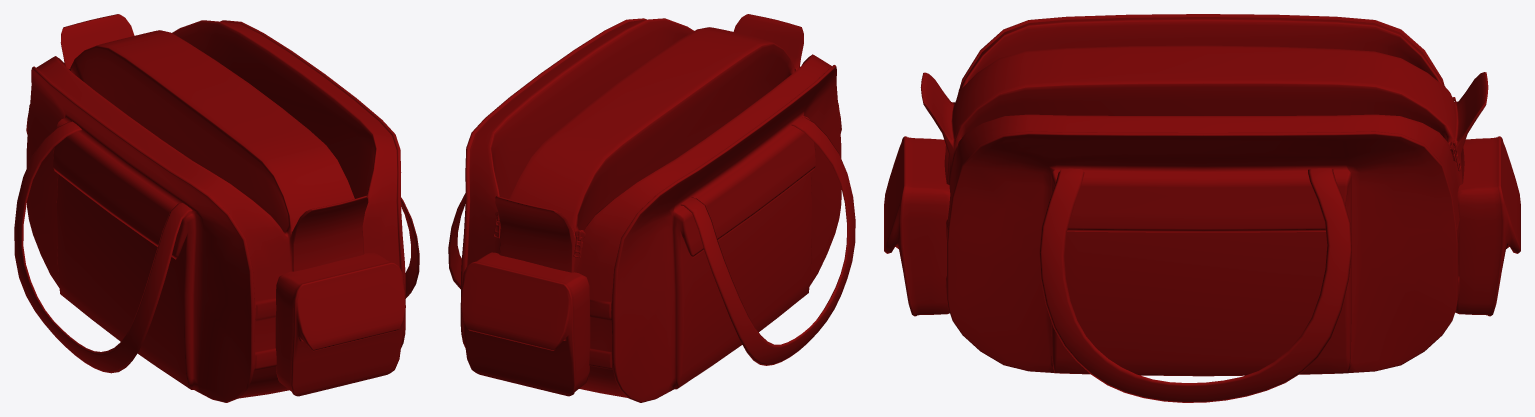
File: bag.obj
3 renders of one model, left to right at view 1: azimuth 30°, elevation 25°; view 2: azimuth 150°, elevation 25°; view 3: azimuth 270°, elevation 25°, orthographic. The views are drawn at different scales.
Visible parts, largest first — view 1: Group15799; view 2: Group15799; view 3: Group15799.
Boxes of the visible parts, <box> form: Group15799: <box>14,14,419,402</box>; Group15799: <box>448,14,855,402</box>; Group15799: <box>884,14,1520,402</box>.
Bounding box in the file's own units: 12.52 × 9.63 × 20.53.
